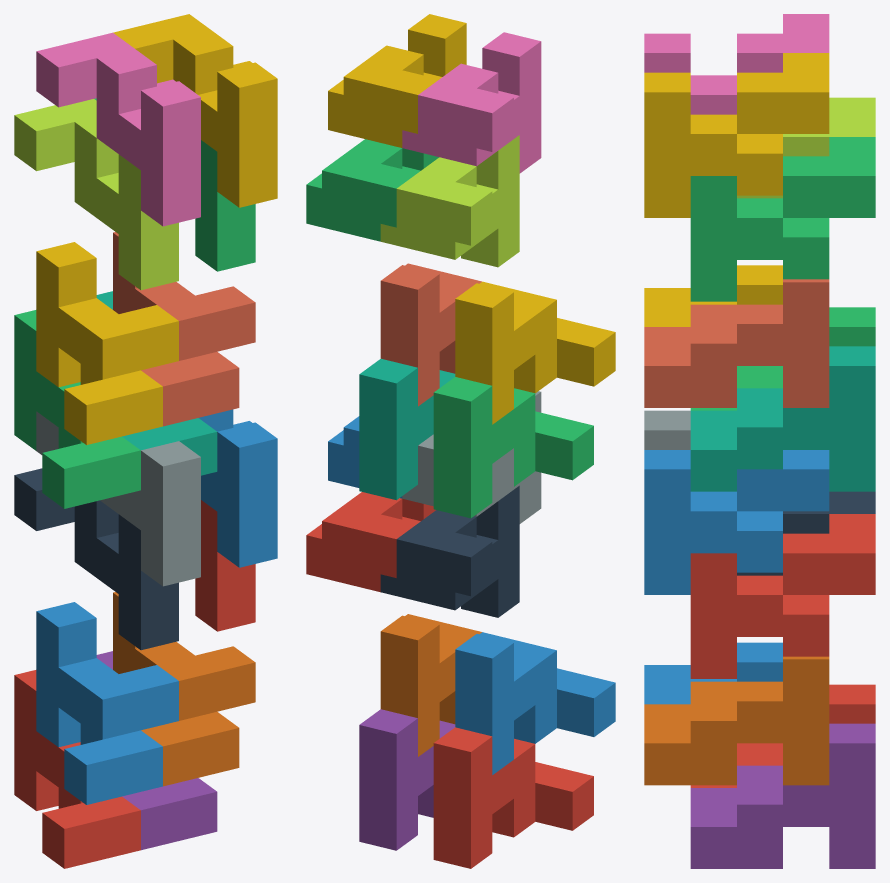
The model's file is tiling.obj.
3 renders of one model, left to right at view 1: azimuth 30°, elevation 25°; view 2: azimuth 150°, elevation 25°; view 3: azimuth 270°, elevation 25°, orthographic. The views are drawn at different scales.
Visible parts, largest first — view 1: copy_1_domain_2, copy_1_domain_4, copy_2_domain_4, copy_2_domain_8, copy_2_domain_3, copy_1_domain_6, copy_1_domain_8, copy_2_domain_1, copy_1_domain_1, copy_1_domain_3, copy_2_domain_2, copy_2_domain_6 (+4 smaller); view 2: copy_1_domain_1, copy_1_domain_3, copy_1_domain_4, copy_1_domain_2, copy_2_domain_4, copy_2_domain_3, copy_2_domain_1, copy_2_domain_8, copy_1_domain_5, copy_1_domain_7, copy_1_domain_8, copy_1_domain_6 (+4 smaller); view 3: copy_2_domain_8, copy_2_domain_5, copy_2_domain_7, copy_1_domain_6, copy_1_domain_8, copy_2_domain_6, copy_1_domain_5, copy_1_domain_7, copy_2_domain_4, copy_1_domain_2, copy_1_domain_4, copy_2_domain_3 (+4 smaller).
Part boxes in pixels (bbox=[...]): copy_1_domain_2: bbox=[36, 602, 178, 804]; copy_1_domain_4: bbox=[36, 242, 178, 444]; copy_2_domain_4: bbox=[36, 32, 200, 226]; copy_2_domain_8: bbox=[113, 14, 277, 207]; copy_2_domain_3: bbox=[14, 99, 178, 290]; copy_1_domain_6: bbox=[113, 592, 255, 786]; copy_1_domain_8: bbox=[113, 232, 255, 426]; copy_2_domain_1: bbox=[14, 468, 178, 650]; copy_1_domain_1: bbox=[14, 670, 140, 868]; copy_1_domain_3: bbox=[14, 310, 140, 508]; copy_2_domain_2: bbox=[36, 411, 200, 586]; copy_2_domain_6: bbox=[199, 409, 277, 567]; copy_1_domain_1: bbox=[433, 727, 593, 868]; copy_1_domain_3: bbox=[433, 377, 593, 518]; copy_1_domain_4: bbox=[455, 281, 615, 424]; copy_1_domain_2: bbox=[455, 632, 615, 774]; copy_2_domain_4: bbox=[402, 32, 541, 173]; copy_2_domain_3: bbox=[380, 135, 519, 267]; copy_2_domain_1: bbox=[380, 485, 519, 617]; copy_2_domain_8: bbox=[328, 14, 466, 147]; copy_1_domain_5: bbox=[359, 709, 455, 850]; copy_1_domain_7: bbox=[359, 358, 455, 500]; copy_1_domain_8: bbox=[380, 263, 481, 406]; copy_1_domain_6: bbox=[380, 614, 481, 756]; copy_2_domain_8: bbox=[644, 53, 829, 217]; copy_2_domain_5: bbox=[690, 514, 875, 678]; copy_2_domain_7: bbox=[690, 137, 875, 301]; copy_1_domain_6: bbox=[644, 656, 829, 785]; copy_1_domain_8: bbox=[644, 279, 829, 407]; copy_2_domain_6: bbox=[644, 450, 829, 594]; copy_1_domain_5: bbox=[690, 723, 875, 868]; copy_1_domain_7: bbox=[690, 346, 875, 491]; copy_2_domain_4: bbox=[644, 14, 829, 114]; copy_1_domain_2: bbox=[644, 642, 782, 704]; copy_1_domain_4: bbox=[644, 265, 782, 326]; copy_2_domain_3: bbox=[737, 97, 875, 198].
Bounding box in the file's own units: 6 × 19 × 5.
